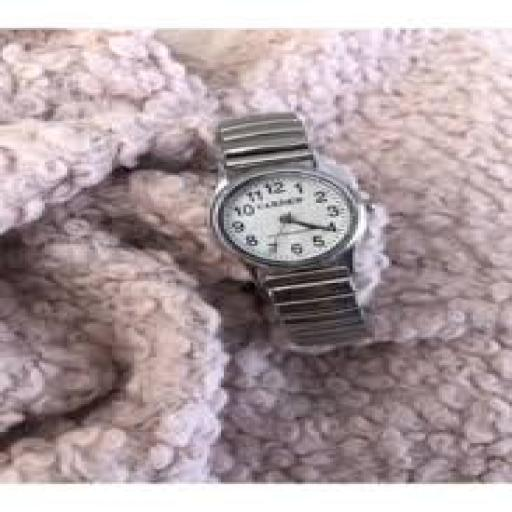KolSaati: (179, 102, 426, 356)
